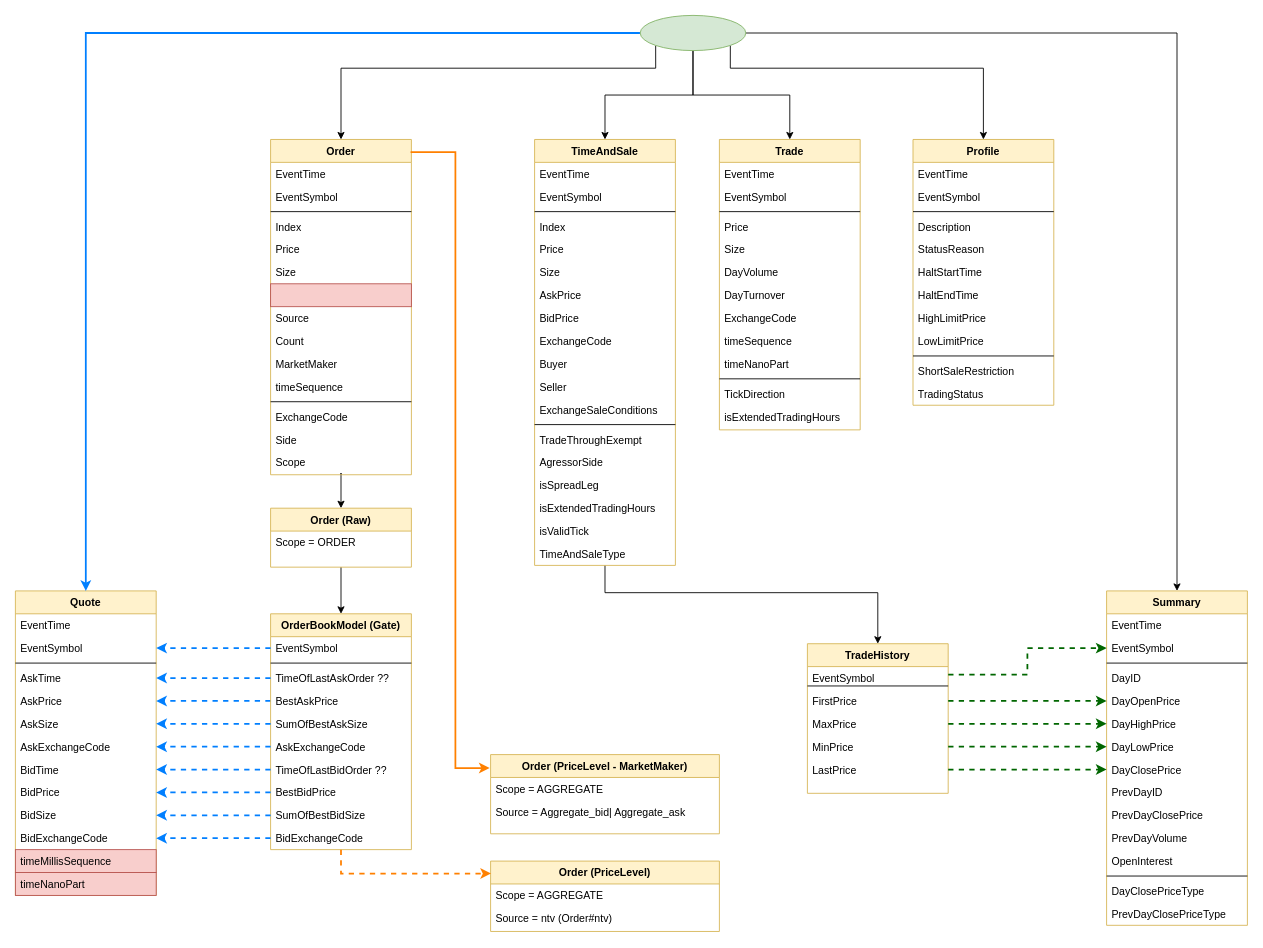
Image size: 1263x948. Some labels were removed from this diagram. The shapes that lost their labels are listed below. From the top down, each one's centre as x and y in pixels, then its label:
At point 692,33: "FEED".
At point 340,295: "ExecutedSize".
